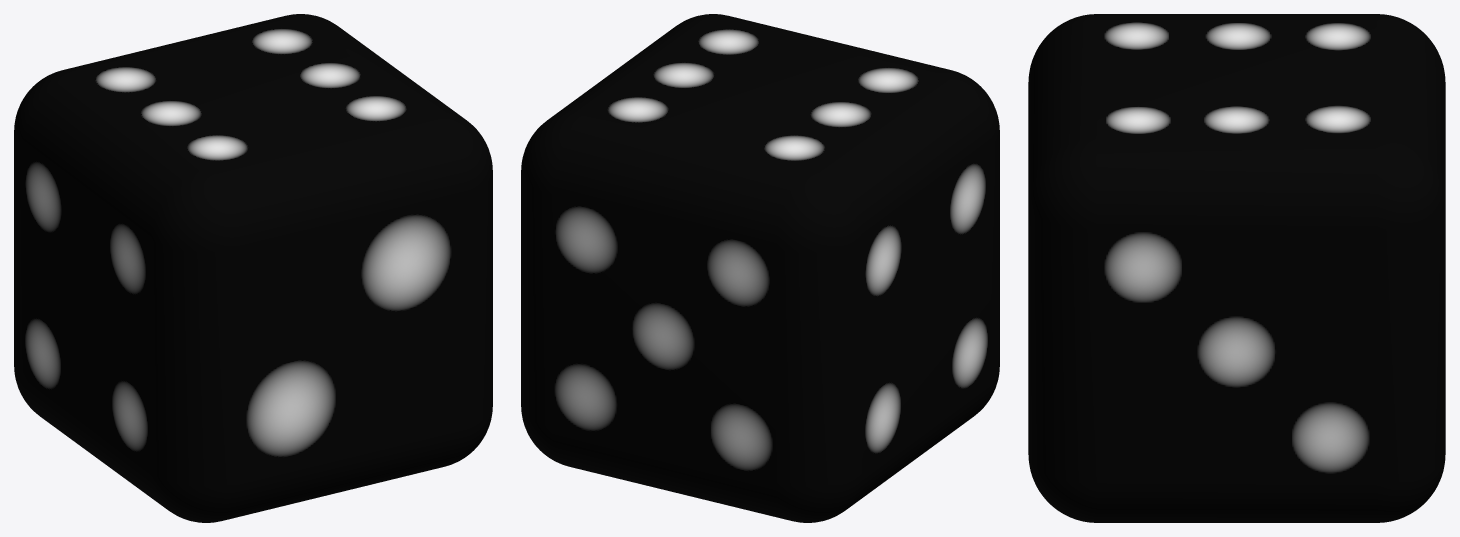
The model's file is d6 esimene katse.glb.
The picture shows the model from 3 angles, left to right: view 1: azimuth 30°, elevation 25°; view 2: azimuth 150°, elevation 25°; view 3: azimuth 270°, elevation 25°; orthographic projection. The views are drawn at different scales.
Parts seen in each view (by area): view 1: base d6; view 2: base d6; view 3: base d6.
Part boxes in pixels (bbox=[...]): base d6: bbox=[14, 14, 492, 522]; base d6: bbox=[521, 14, 999, 522]; base d6: bbox=[1028, 14, 1445, 522].
Size of the model in its own units: 2 by 2 by 2.
Materials: 1 (1 with a texture image).
